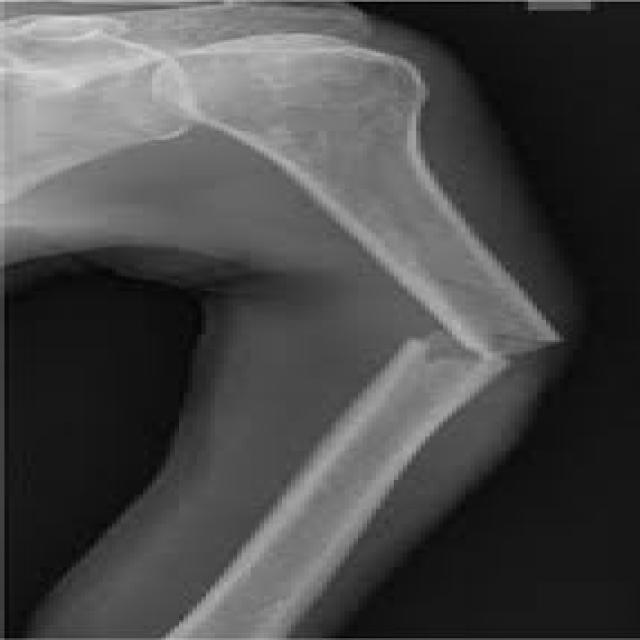bone: (388, 282, 584, 438)
